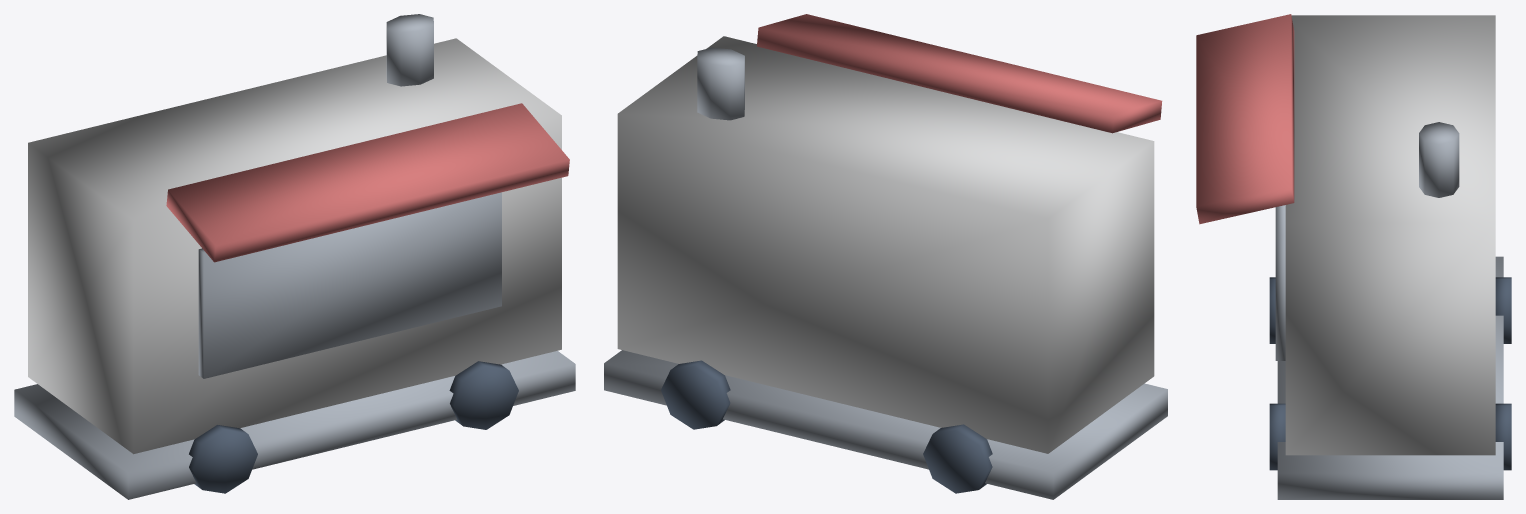
Rendered from food-cart.glb.
The picture shows the model from 3 angles, left to right: view 1: azimuth 30°, elevation 25°; view 2: azimuth 150°, elevation 25°; view 3: azimuth 270°, elevation 25°; orthographic projection.
Parts seen in each view (by area): view 1: world; view 2: world; view 3: world.
Boxes of the visible parts, box(x1,y1,x2,y2) form: world: box(14, 14, 575, 499); world: box(604, 14, 1167, 499); world: box(1196, 14, 1511, 499).
Bounding box in the file's own units: 5.2 × 3.8 × 3.2.
